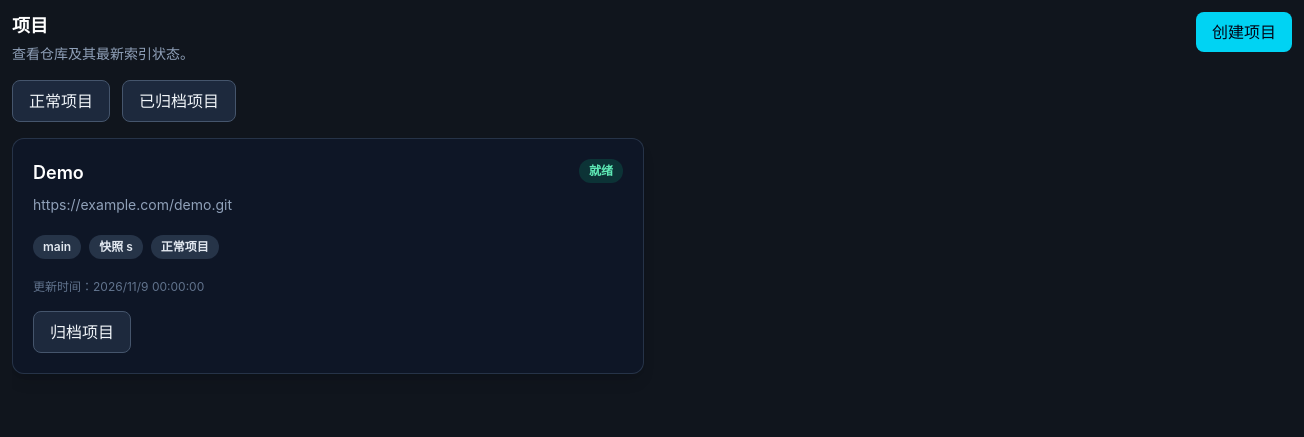
Test: shows lifecycle errors without discarding the project (archived=false)
Click the button "归档项目": (82, 332) [33,311,131,353]
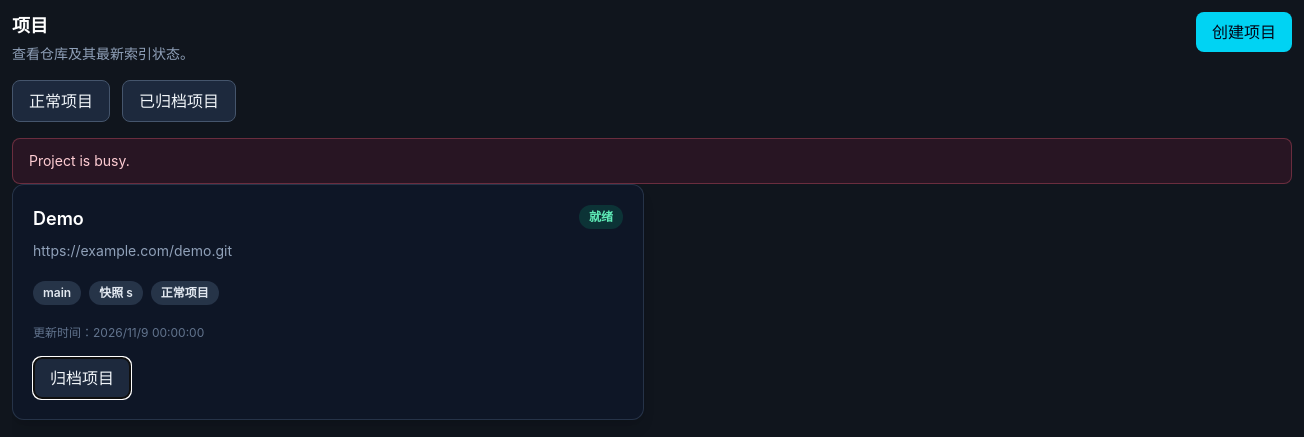
Expected: the link "Demo" is shown, [33,205,623,341]
Now the message reads "Project is busy.", box [29,152,130,169]
